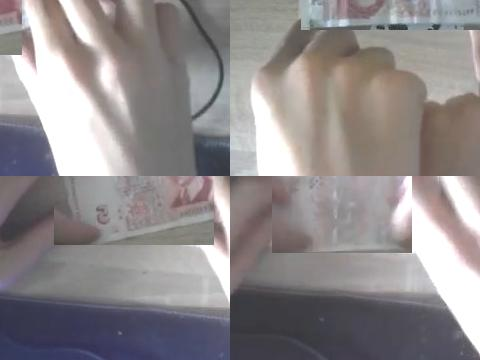5leva: (54, 176, 211, 245), (280, 176, 407, 253)
